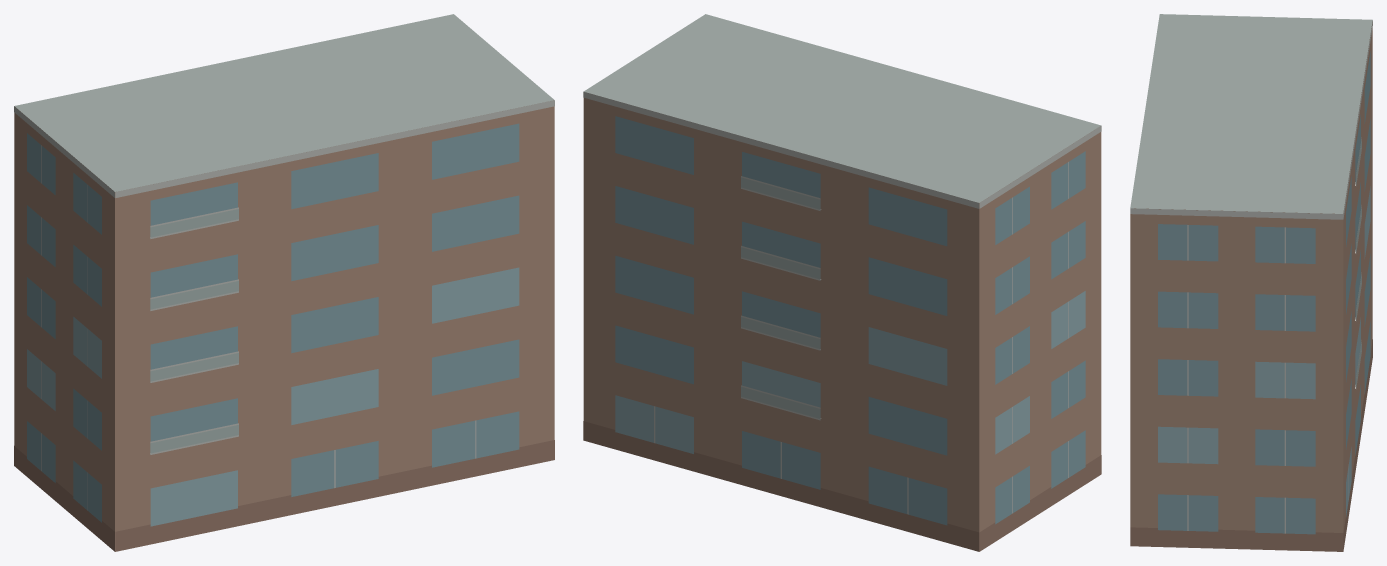
File: survey-upis-32873145.glb
3 renders of one model, left to right at view 1: azimuth 30°, elevation 25°; view 2: azimuth 150°, elevation 25°; view 3: azimuth 270°, elevation 25°, orthographic. The views are drawn at different scales.
Parts seen in each view (by area): view 1: survey-upis-32873145.tmp; view 2: survey-upis-32873145.tmp; view 3: survey-upis-32873145.tmp.
Part boxes in pixels (x1=…): survey-upis-32873145.tmp: x1=14, y1=14, x2=554, y2=551; survey-upis-32873145.tmp: x1=583, y1=14, x2=1101, y2=551; survey-upis-32873145.tmp: x1=1130, y1=14, x2=1372, y2=551.
Size of the model in its own units: 18.04 by 14.2 by 9.25.
